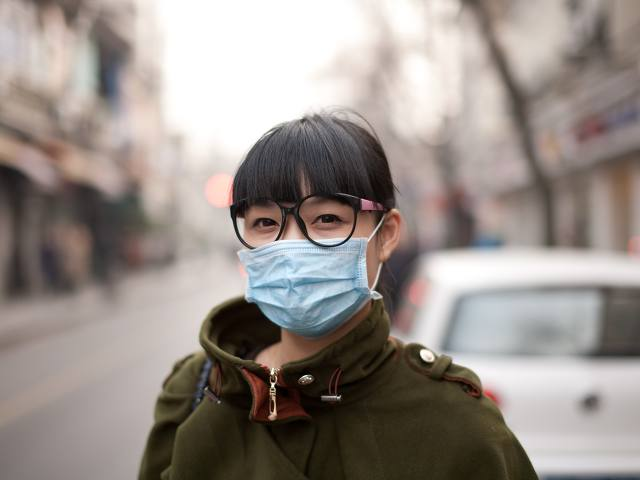face_mask: (240, 171, 364, 334)
